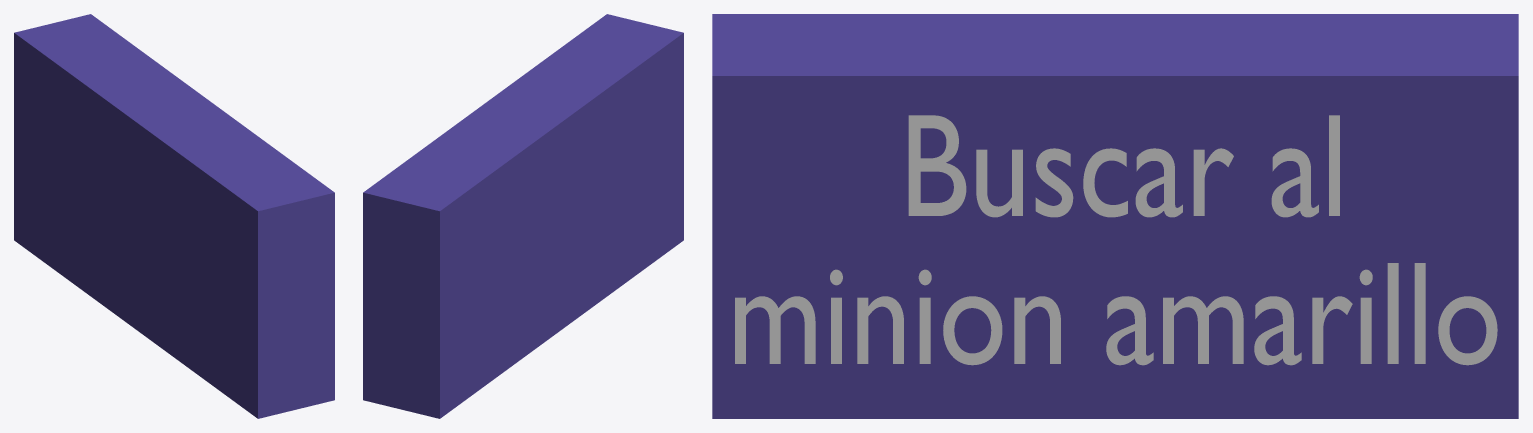
Rendered from minion_button.glb.
The picture shows the model from 3 angles, left to right: view 1: azimuth 30°, elevation 25°; view 2: azimuth 150°, elevation 25°; view 3: azimuth 270°, elevation 25°; orthographic projection. The views are drawn at different scales.
Parts seen in each view (by area): view 1: Cube; view 2: Cube; view 3: Cube, Text.001.
Part boxes in pixels (bbox=[...]): Cube: bbox=[14, 14, 334, 418]; Cube: bbox=[363, 14, 683, 418]; Cube: bbox=[712, 14, 1518, 418]; Text.001: bbox=[735, 115, 1497, 365].
Bounding box in the file's own units: 0.6015 × 1.53 × 3.26.
